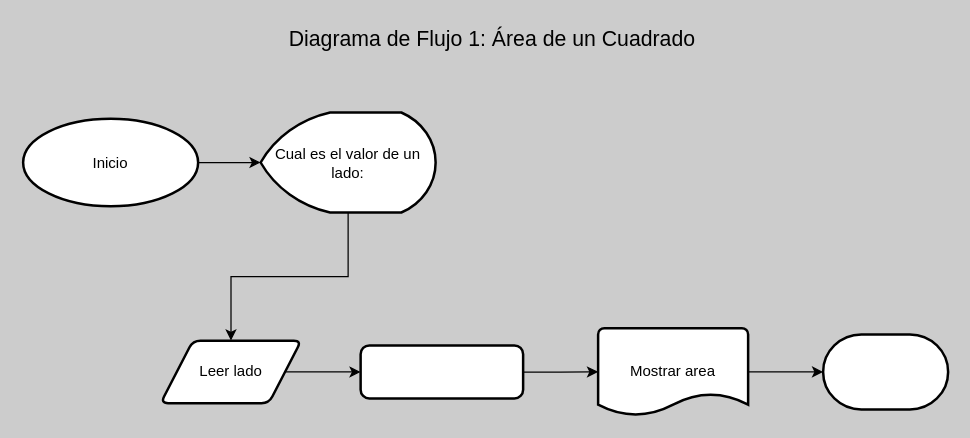
The diagram is 970 pixels wide and 438 high, and some of its shapes have lost their labels. The box of each missing label's shape, as (x1, y1, x2, y2) in pixels:
area=lado*lado: (359, 344, 524, 399)
Fin: (821, 332, 949, 410)
